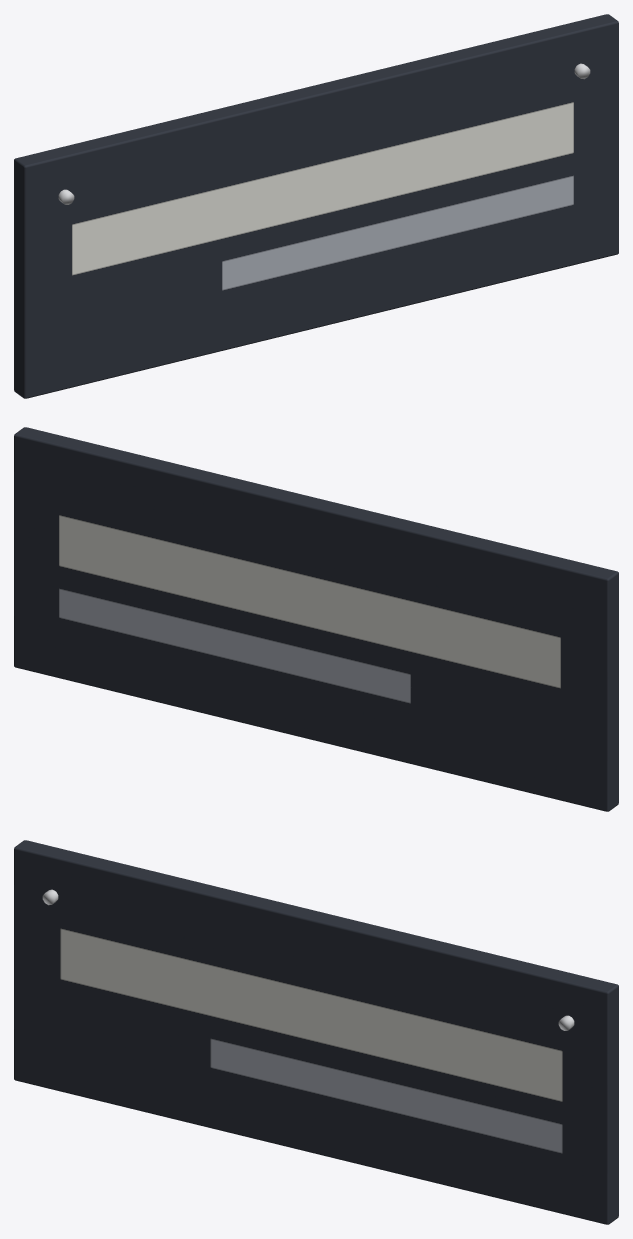
Rendered from trabajo.letrero_mediano.fbx.
3 views of the same model, one above another, from view 1: azimuth 30°, elevation 25°; view 2: azimuth 150°, elevation 25°; view 3: azimuth 330°, elevation 25° (orthographic).
Parts seen in each view (by area): view 1: Letrero; view 2: Letrero; view 3: Letrero.
Boxes of the visible parts, box(x1,y1,x2,y2) form: Letrero: box(14, 14, 618, 398); Letrero: box(14, 427, 618, 811); Letrero: box(14, 840, 618, 1224).
Size of the model in its own units: 1.2 by 0.45 by 0.055.
Materials: 3 (1 with a texture image).
